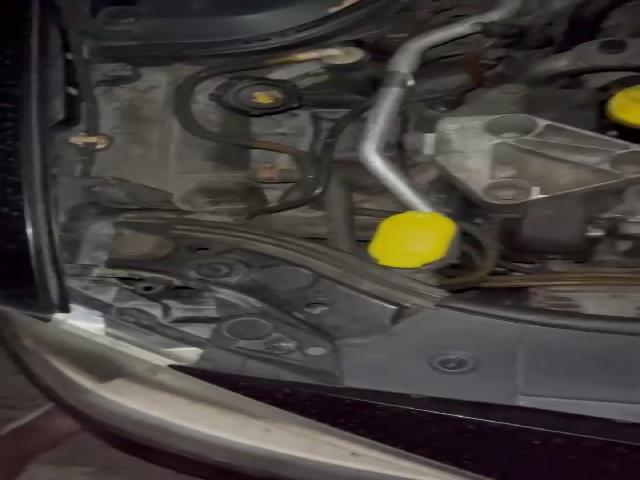antifreeze_tank: (93, 67, 263, 212), (192, 75, 300, 137)
